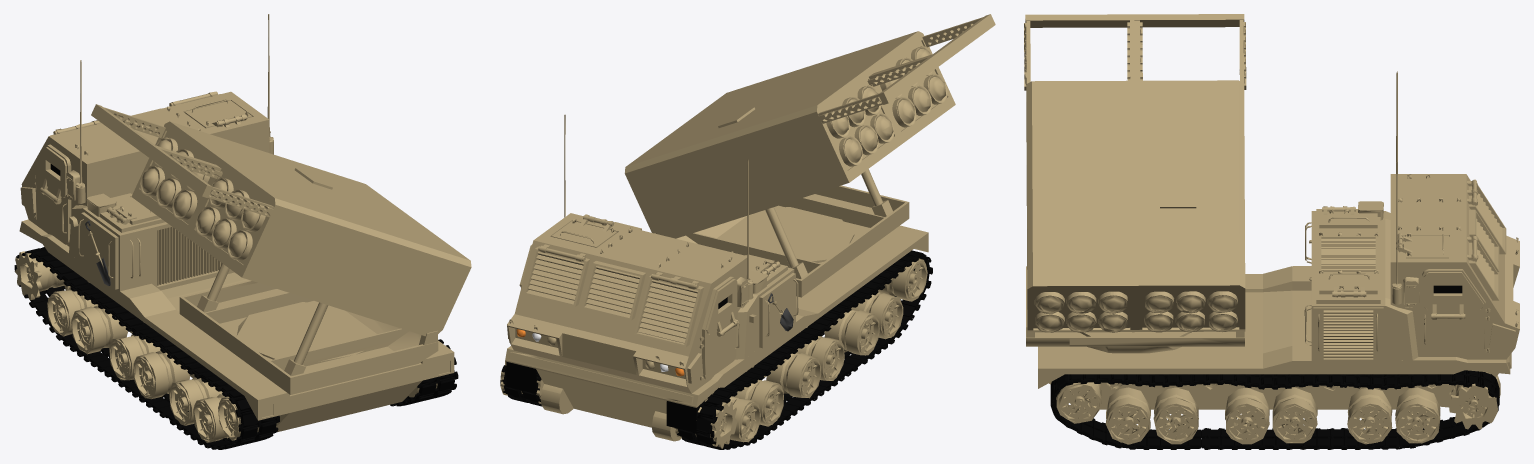
3 renders of one model, left to right at view 1: azimuth 30°, elevation 25°; view 2: azimuth 150°, elevation 25°; view 3: azimuth 270°, elevation 25°, orthographic. The views are drawn at different scales.
Visible parts, largest first — view 1: V_m270; view 2: V_m270; view 3: V_m270.
Boxes of the visible parts, x1=… form: V_m270: x1=14, y1=14, x2=471, y2=449; V_m270: x1=500, y1=14, x2=995, y2=449; V_m270: x1=1024, y1=14, x2=1519, y2=449.
Size of the model in its own units: 12.3 by 13.4 by 19.52.
Materials: 8 (8 with a texture image).
